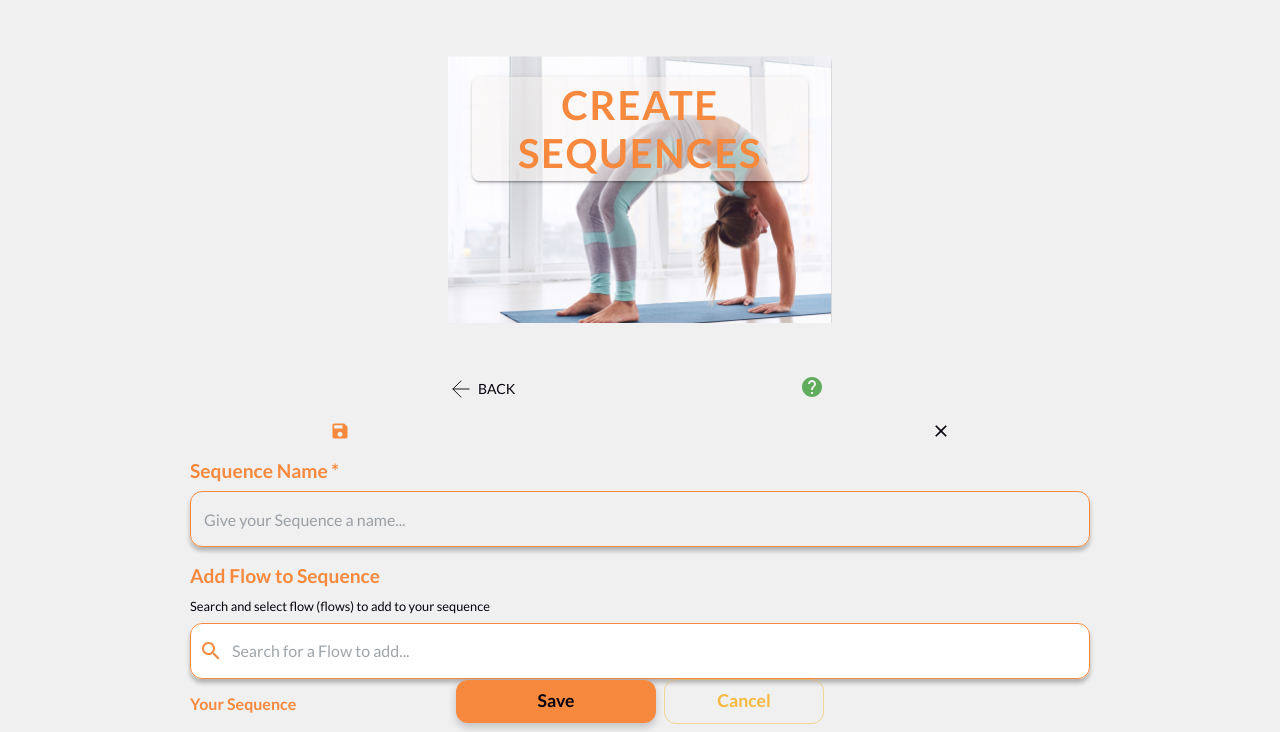
Test: CreateSequence Series Grouping › groups series into Mine and Alpha User sections
This screenshot has width=1280, height=732.
# Focus and then click to ensure dropdown opens
Click the dropdown with placeholder "Search for a Flow to add..." at (639,651), box [227,632,1051,670]
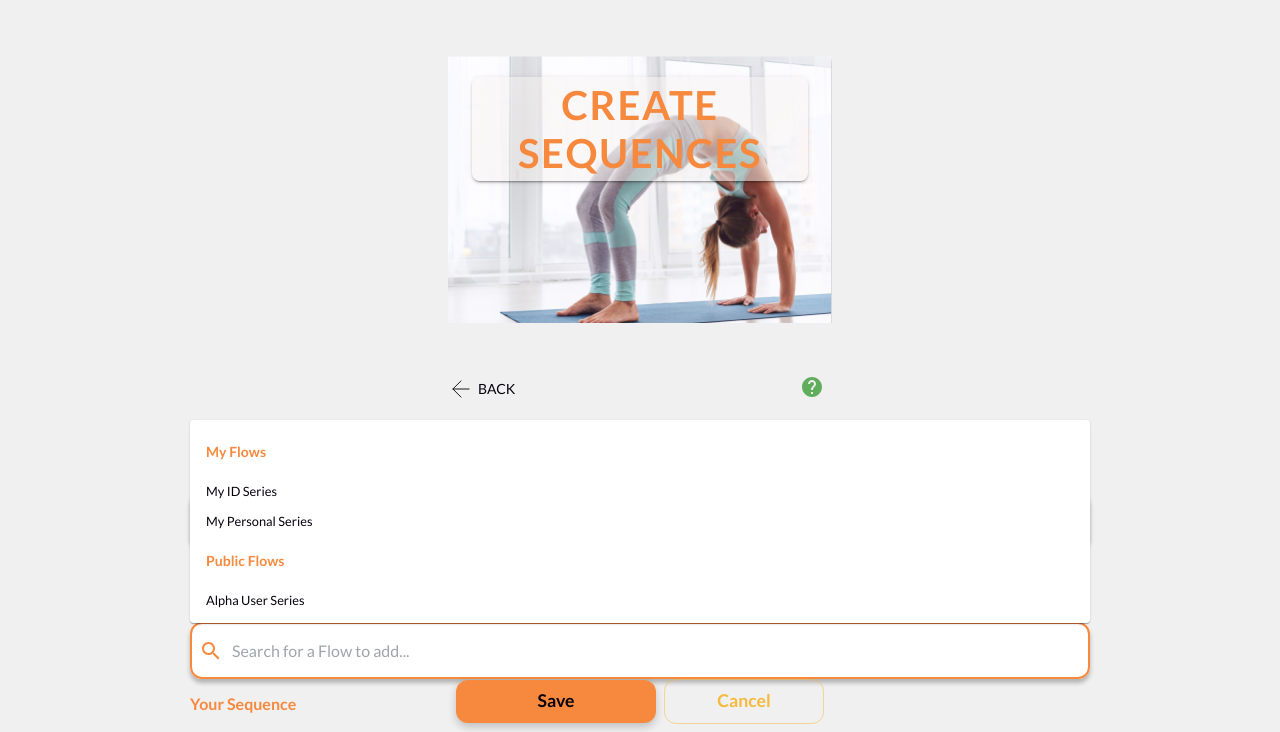
Check: the text "My Personal Series" is shown, box [206,512,312,531]
Check: the text "My ID Series" is shown, box [206,482,277,500]
Check: the text "Alpha User Series" is shown, box [206,591,304,609]
